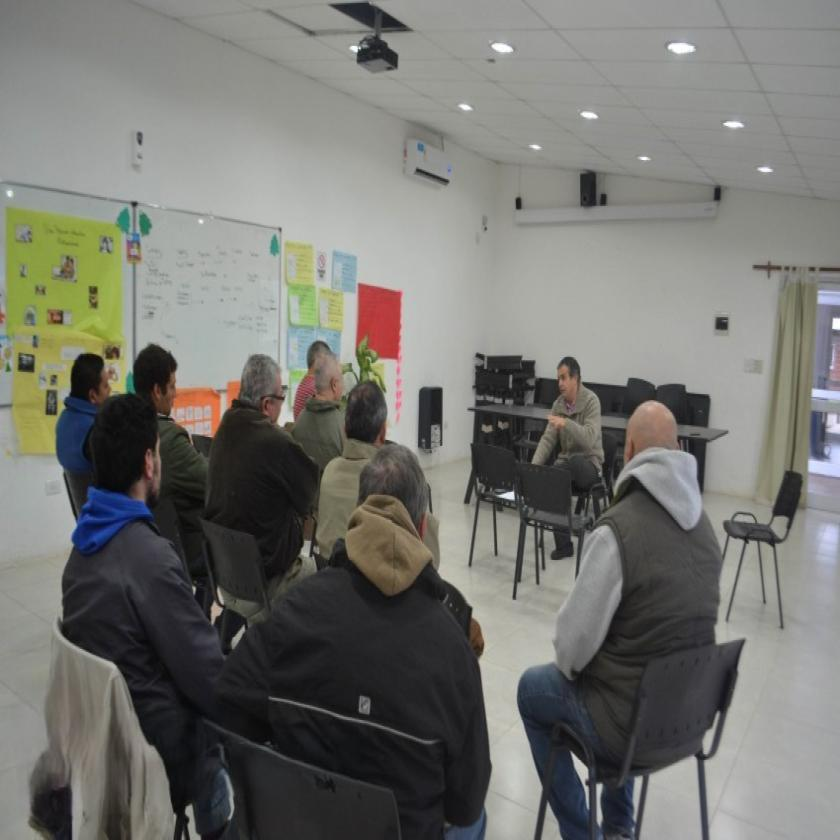Sin_casco: (130, 342, 180, 422), (553, 352, 583, 412)
